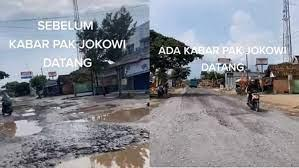Pothole: (3, 139, 151, 168), (52, 93, 155, 131), (0, 103, 50, 146), (51, 97, 115, 124), (95, 103, 150, 129)
